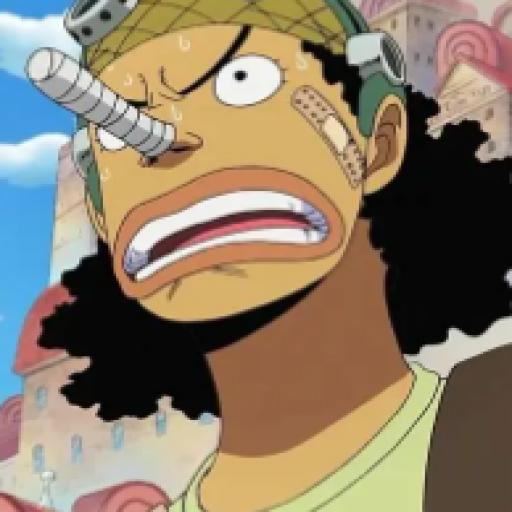Usopp: (3, 4, 512, 512)
